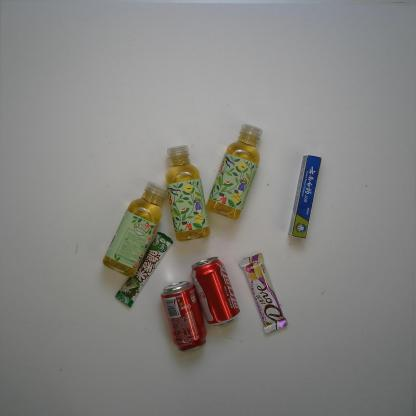Chocolate: (114, 231, 173, 309), (239, 252, 289, 336)
Drink: (102, 180, 169, 278), (205, 122, 263, 221), (164, 145, 212, 242), (190, 256, 240, 328), (160, 280, 207, 352)
Personal Hygiene: (287, 154, 322, 240)
